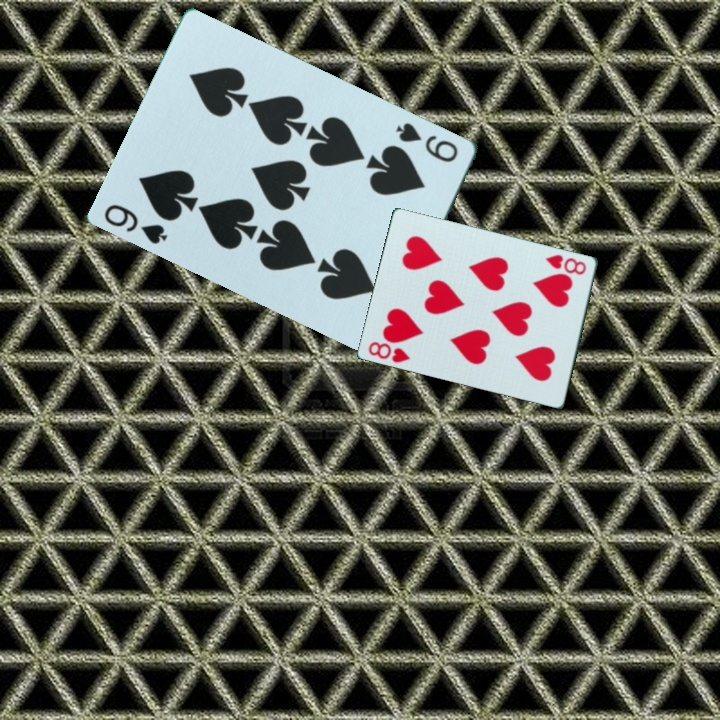8h: (365, 338, 413, 366), (542, 251, 589, 278)
9s: (392, 118, 462, 166), (101, 200, 171, 247)
